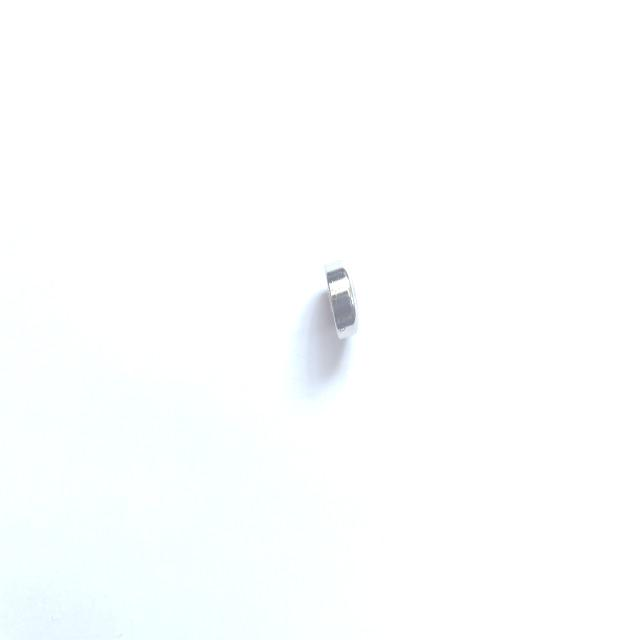COIN: (319, 256, 364, 346)
